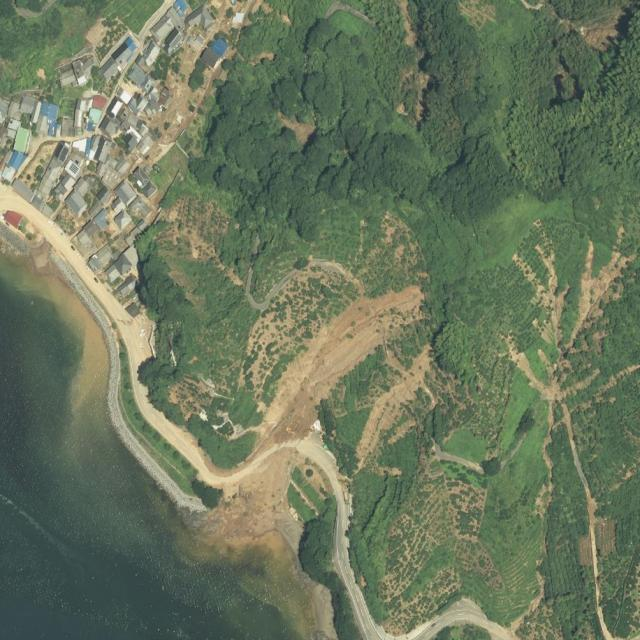landslide: (254, 285, 425, 441), (284, 260, 357, 298), (247, 296, 280, 356)
